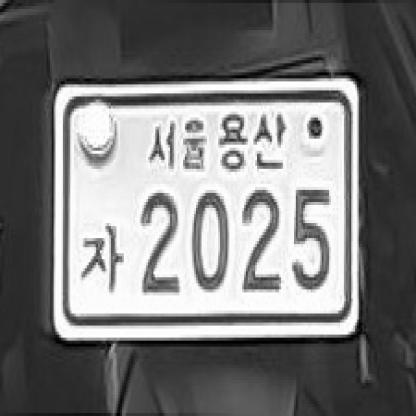bnum: (50, 74, 366, 348)
